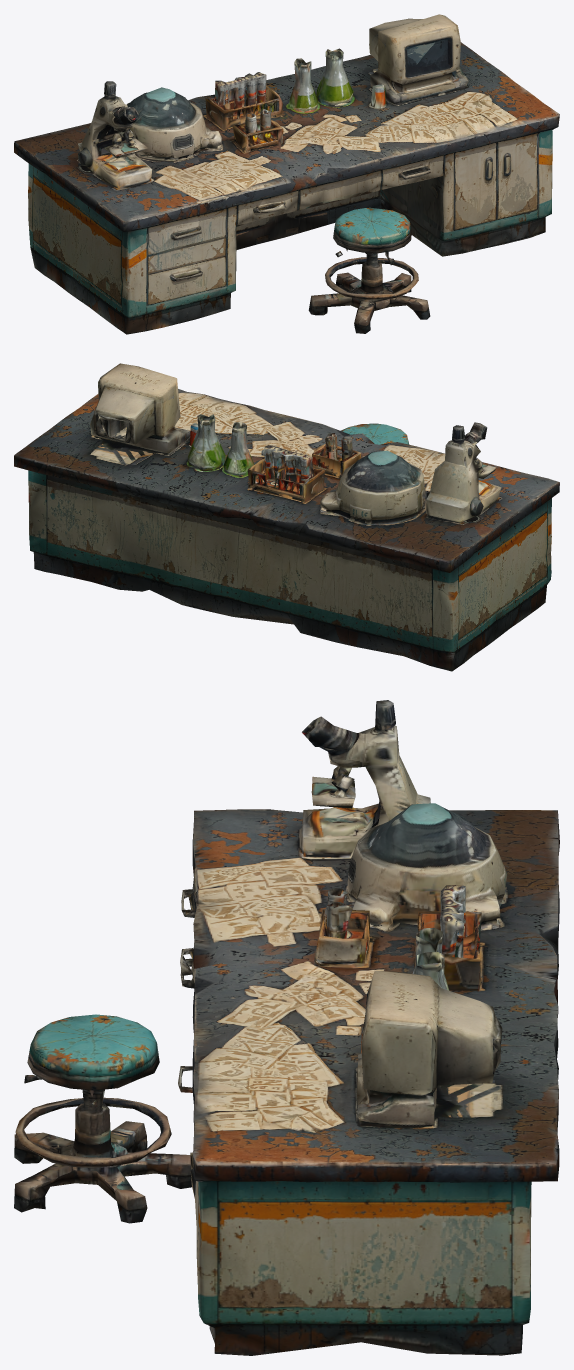
File: EX_Lab_Bench.fbx
3 views of the same model, one above another, from view 1: azimuth 30°, elevation 25°; view 2: azimuth 150°, elevation 25°; view 3: azimuth 270°, elevation 25° (orthographic). The views are drawn at different scales.
Visible parts, largest first — view 1: texture_mapping; view 2: texture_mapping; view 3: texture_mapping.
Part boxes in pixels (left/top/right/bottom): texture_mapping: left=14, top=14, right=559, bottom=334; texture_mapping: left=14, top=363, right=559, bottom=671; texture_mapping: left=14, top=700, right=559, bottom=1355.
Size of the model in its own units: 0.9997 by 0.6508 by 0.4518.
1 material, 1 textured.
